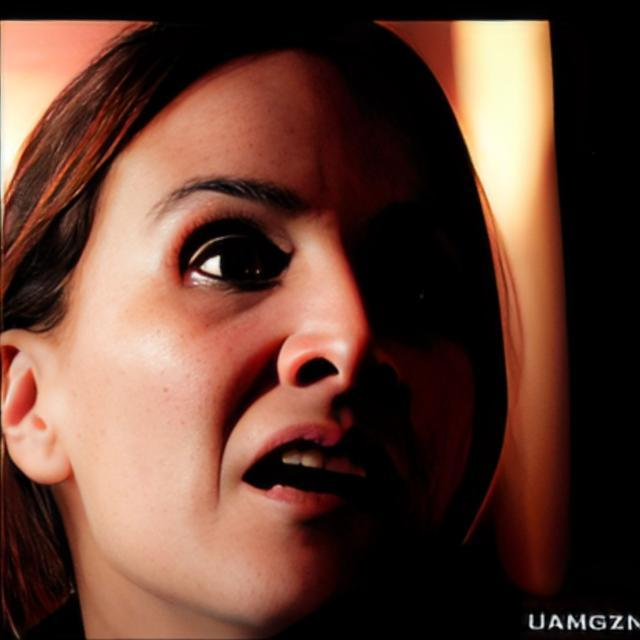disgust: (70, 47, 481, 630)
